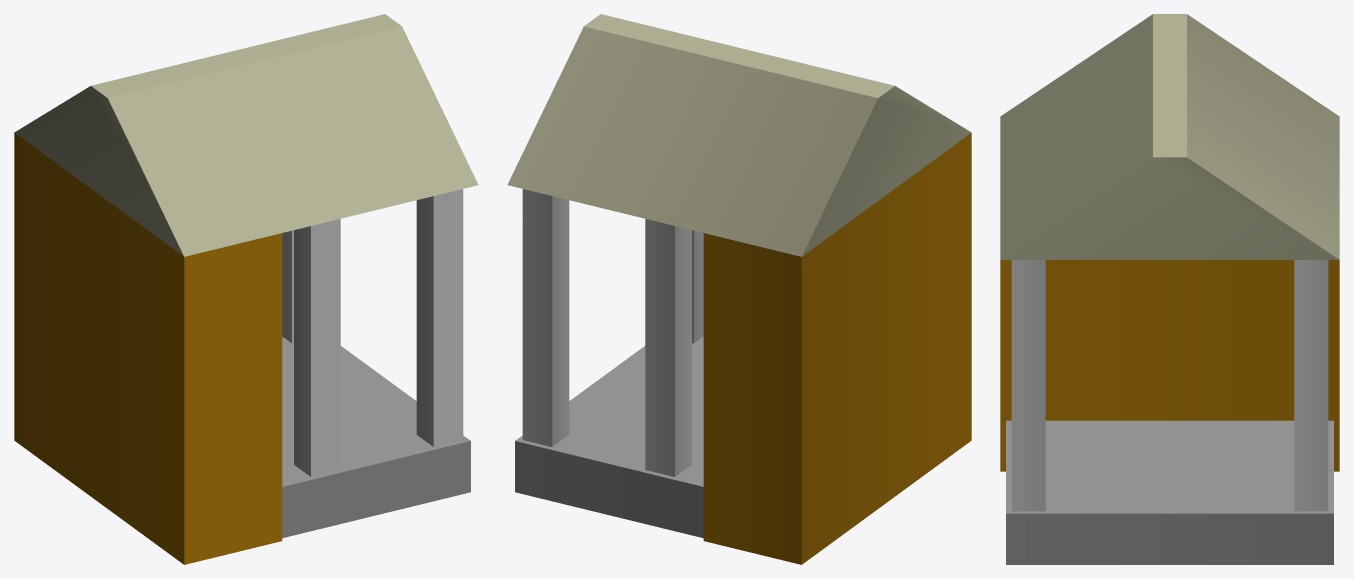
File: building-21-low.glb
3 renders of one model, left to right at view 1: azimuth 30°, elevation 25°; view 2: azimuth 150°, elevation 25°; view 3: azimuth 270°, elevation 25°, orthographic.
Visible parts, largest first — view 1: mesh0; view 2: mesh0; view 3: mesh0.
Boxes of the visible parts, bbox=[...] form: mesh0: bbox=[14, 14, 478, 564]; mesh0: bbox=[507, 14, 971, 564]; mesh0: bbox=[1000, 14, 1339, 564].
Size of the model in its own units: 0.6 by 0.8 by 0.6.
